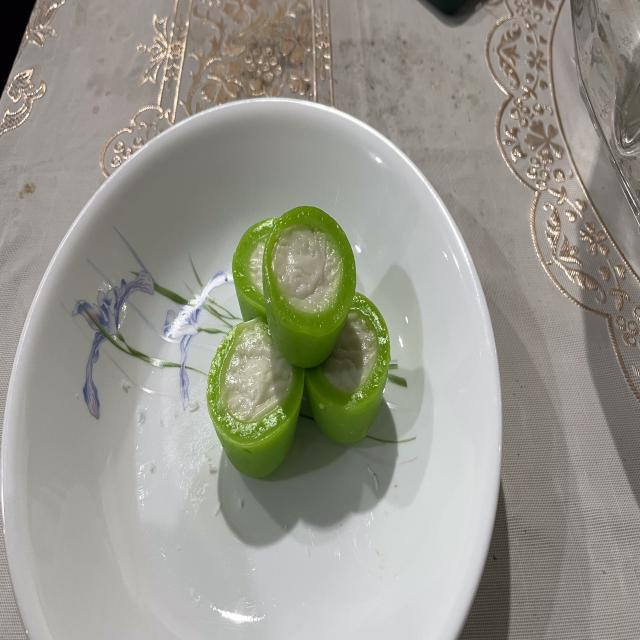nona-manis: (206, 318, 304, 478), (262, 207, 356, 369), (305, 293, 390, 442), (232, 218, 278, 322)
